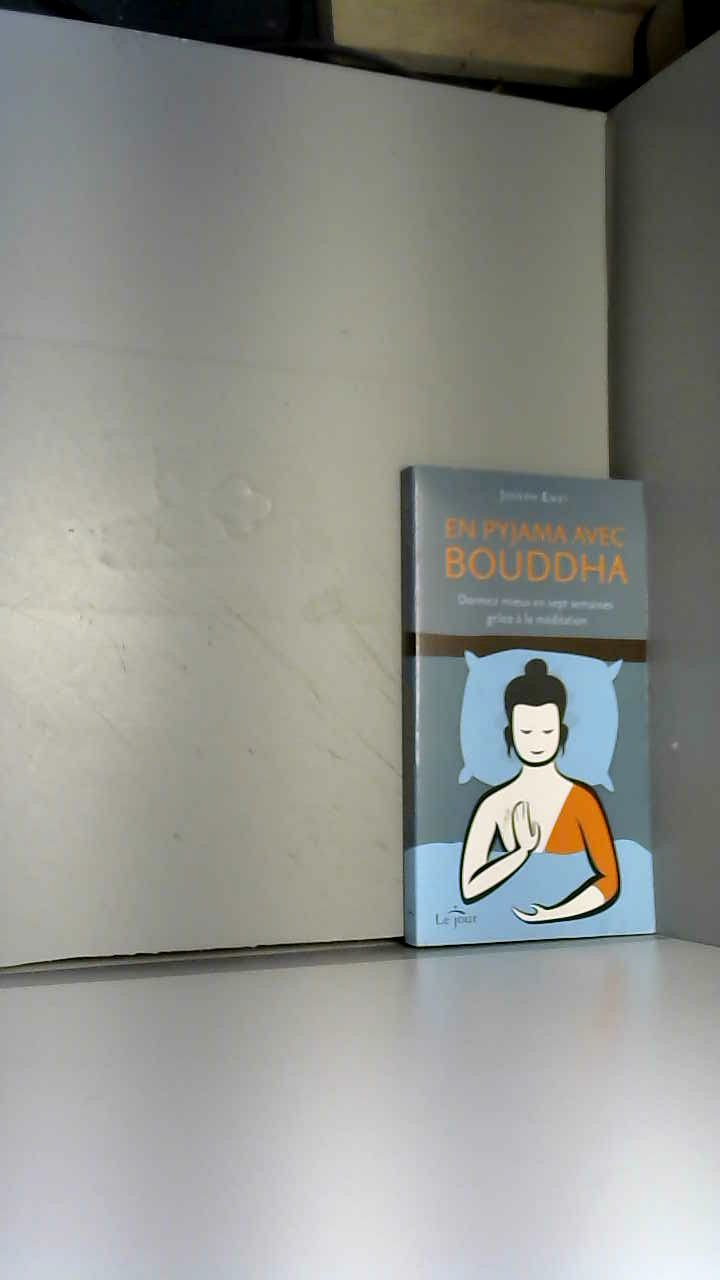book: (355, 423, 699, 996)
